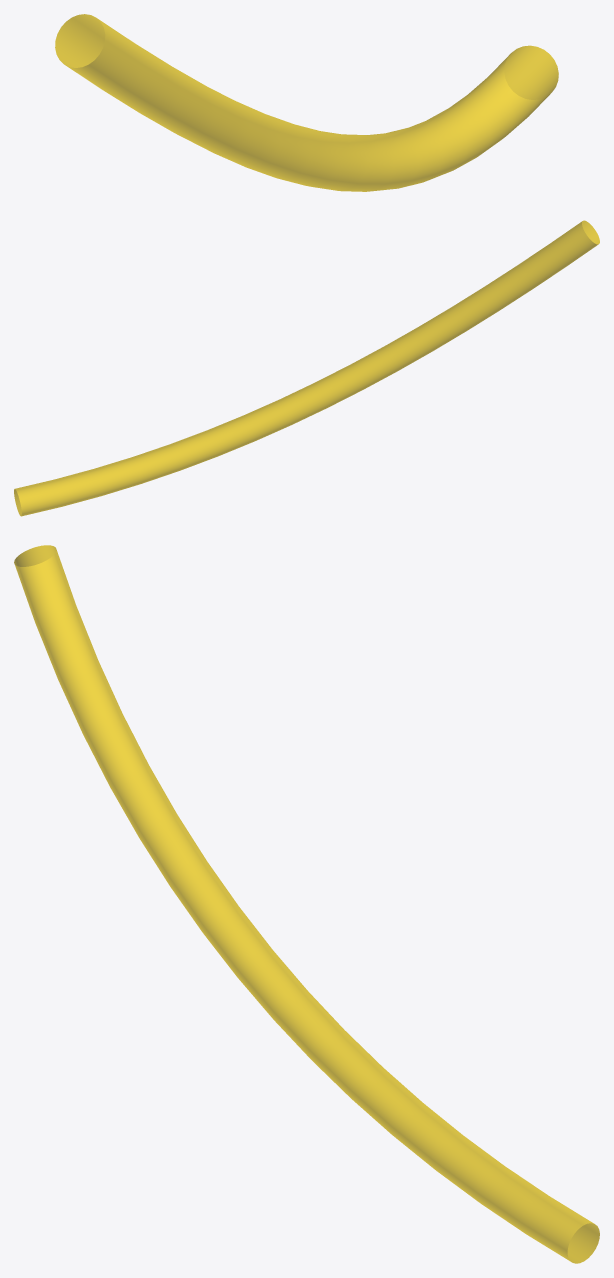
The model's file is Event_100608114_track_87.fbx.
3 renders of one model, top to bottom at view 1: azimuth 30°, elevation 25°; view 2: azimuth 150°, elevation 25°; view 3: azimuth 270°, elevation 25°, orthographic. The views are drawn at different scales.
Parts seen in each view (by area): view 1: Model; view 2: Model; view 3: Model.
Part boxes in pixels (x1=…): Model: x1=55, y1=14, x2=558, y2=191; Model: x1=14, y1=220, x2=599, y2=516; Model: x1=14, y1=545, x2=599, y2=1263.
Size of the model in its own units: 0.6772 by 0.4088 by 0.5225.
